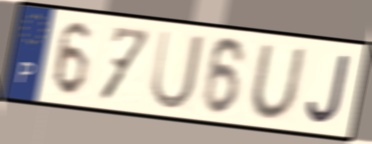6: (199, 35, 251, 118), (51, 19, 94, 99)
7: (98, 24, 152, 104)
J: (305, 51, 353, 126)
U: (148, 27, 207, 112), (248, 42, 308, 122)
